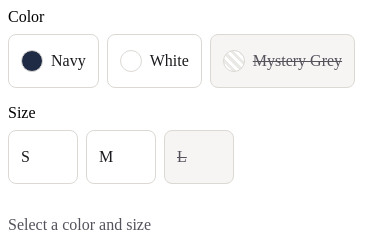
Test case: ProductVariantOptions › disables sizes not defined for the selected color and clears an invalid size on color change
Step 1. Click the radio button labelled "Navy" → (53, 61), box [8,34,99,88]
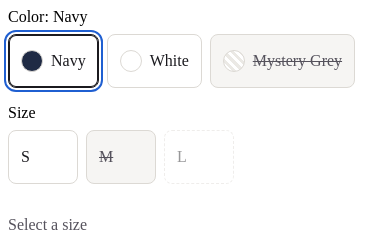
Step 2. Click the radio button labelled "S" → (43, 157), box [8,130,78,184]
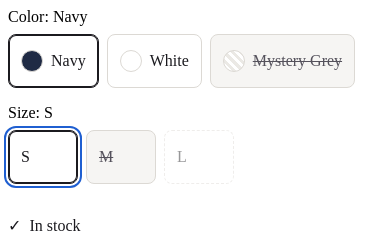
Step 3. Click the radio button labelled "White" → (154, 61), box [107,34,202,88]
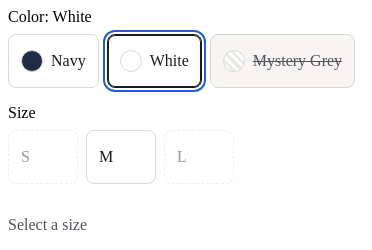
Expected: the radio button labelled "S" is not checked, [8,130,78,184]
Expected: the radio button labelled "S" is disabled, [8,130,78,184]
Expected: the message reads "Select a size", [8,216,87,233]
